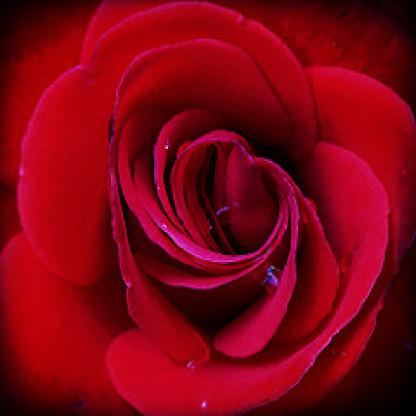Rose-Mawar: (3, 7, 415, 407)
